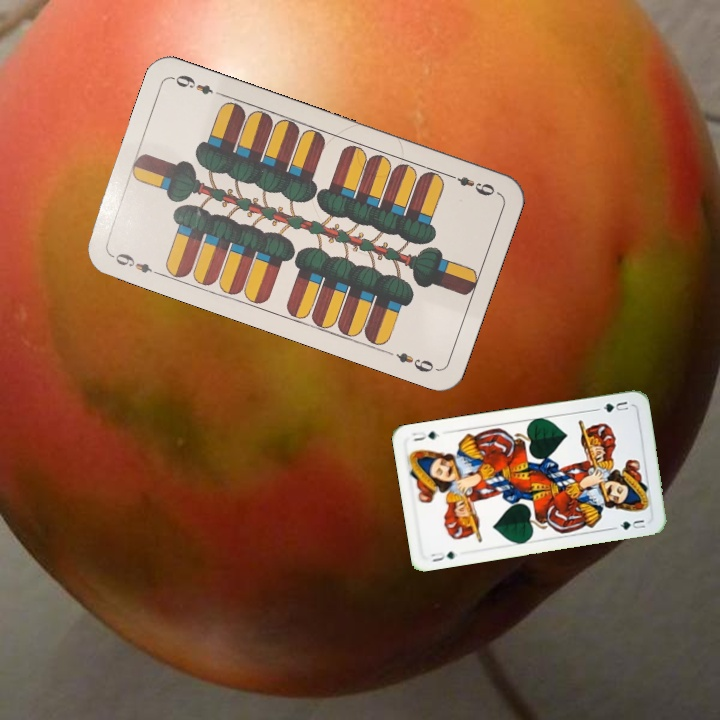E9: (107, 249, 164, 279), (443, 169, 498, 199)
GU: (599, 397, 632, 415), (426, 547, 460, 564)
